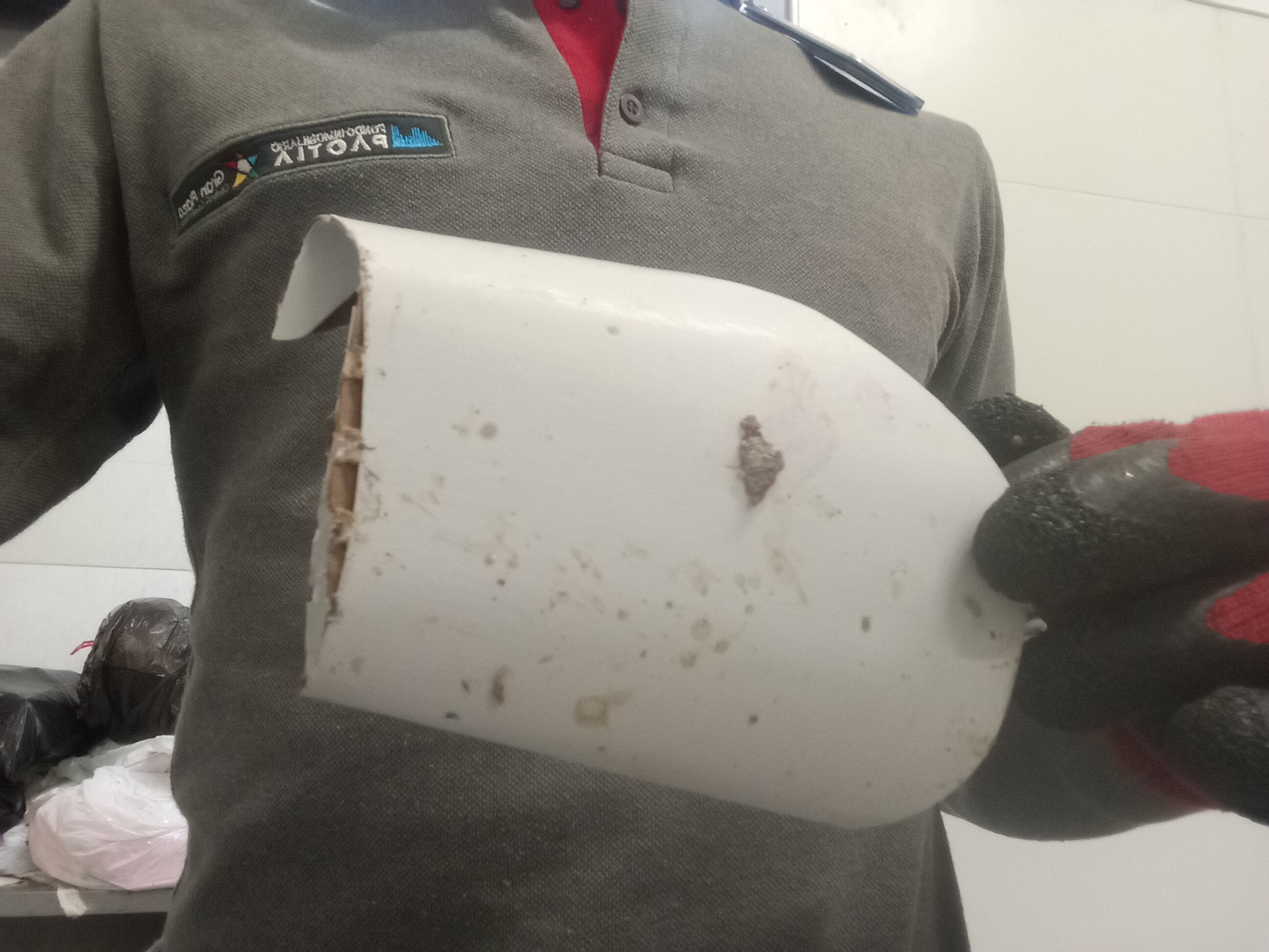Ordinario: (264, 212, 1031, 834)
